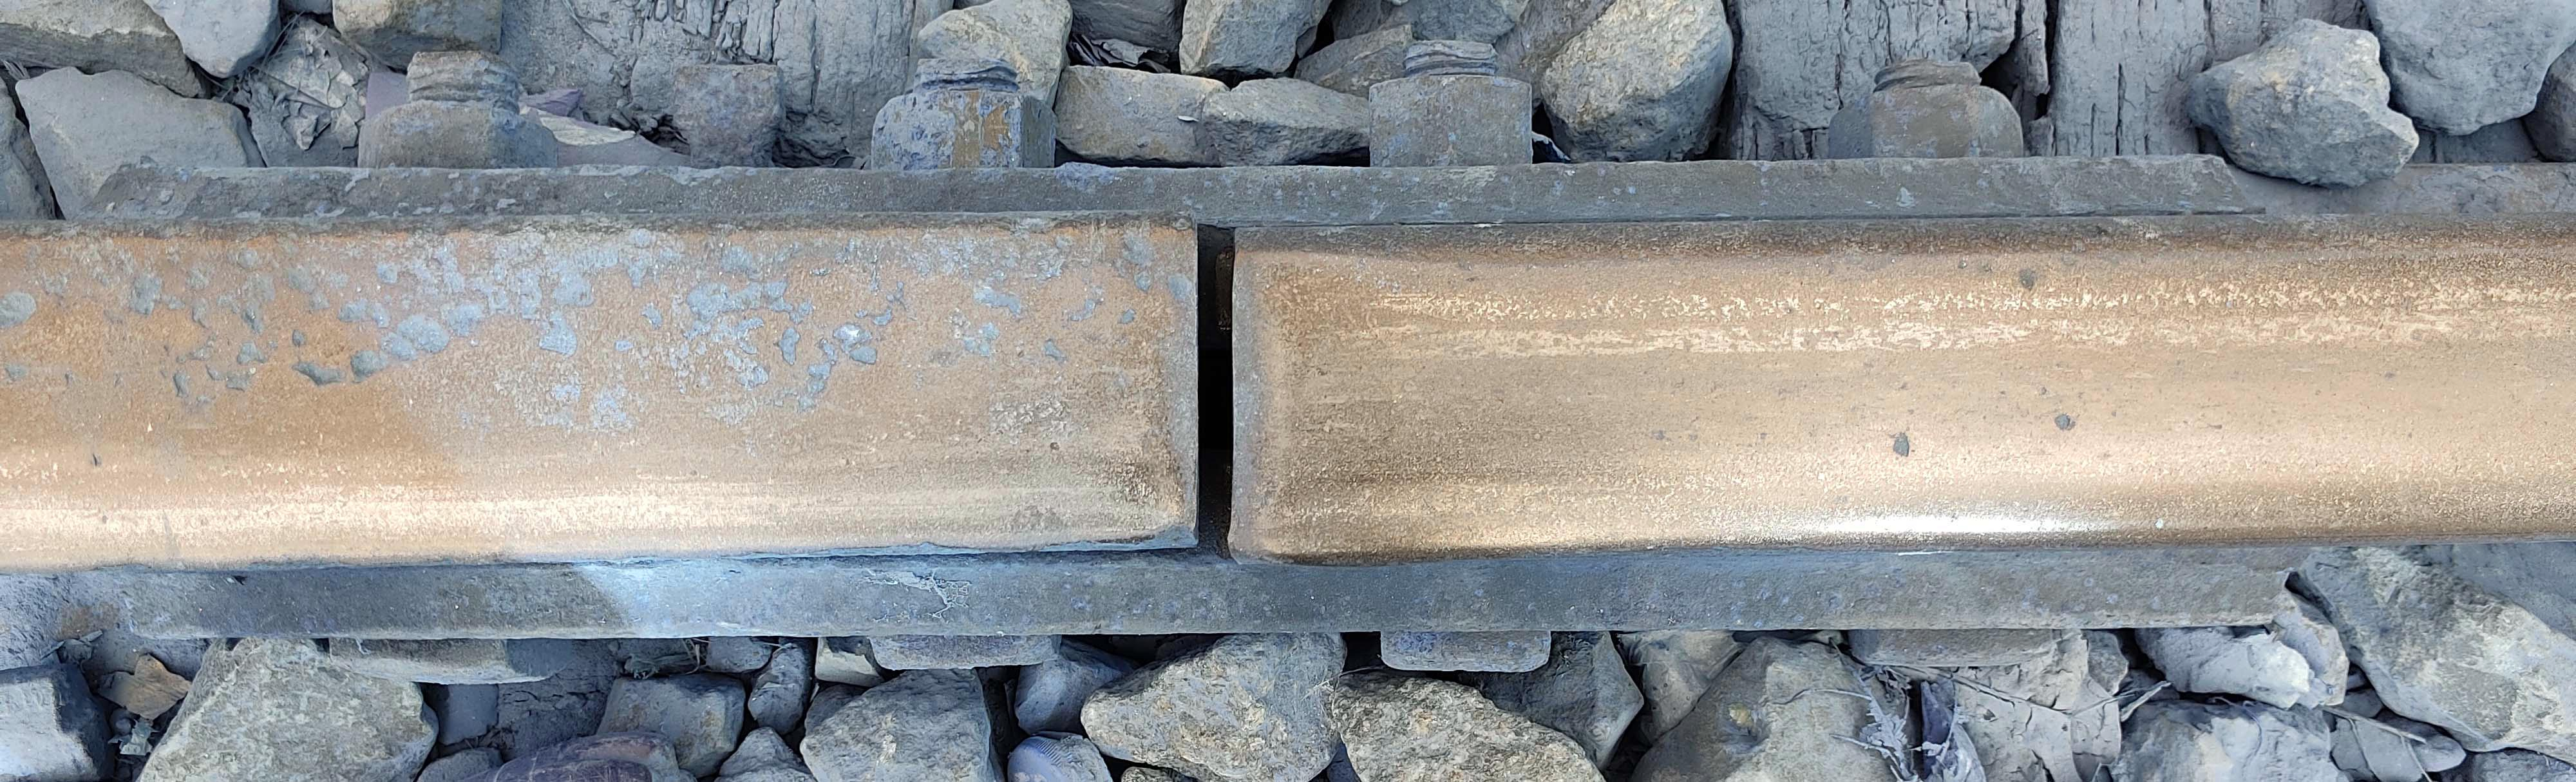error2: (1084, 195, 1337, 632)
